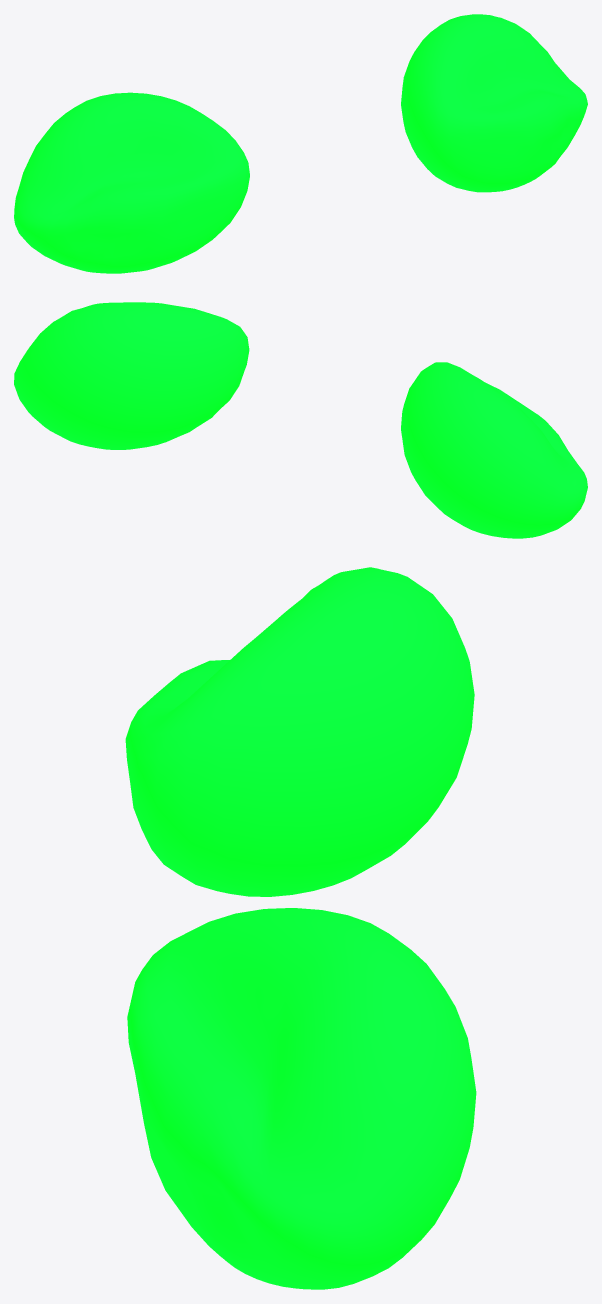
Rendered from Zombie-Green.glb.
3 renders of one model, top to bottom at view 1: azimuth 30°, elevation 25°; view 2: azimuth 150°, elevation 25°; view 3: azimuth 270°, elevation 25°, orthographic. The views are drawn at different scales.
Visible parts, largest first — view 1: Sphere.001; view 2: Sphere.001; view 3: Sphere.001.
Part boxes in pixels (box(x1,y1,x2,y2)): Sphere.001: box(14, 14, 587, 273); Sphere.001: box(14, 302, 587, 538); Sphere.001: box(125, 567, 476, 1289).
Size of the model in its own units: 0.3788 by 0.1042 by 0.1024.
